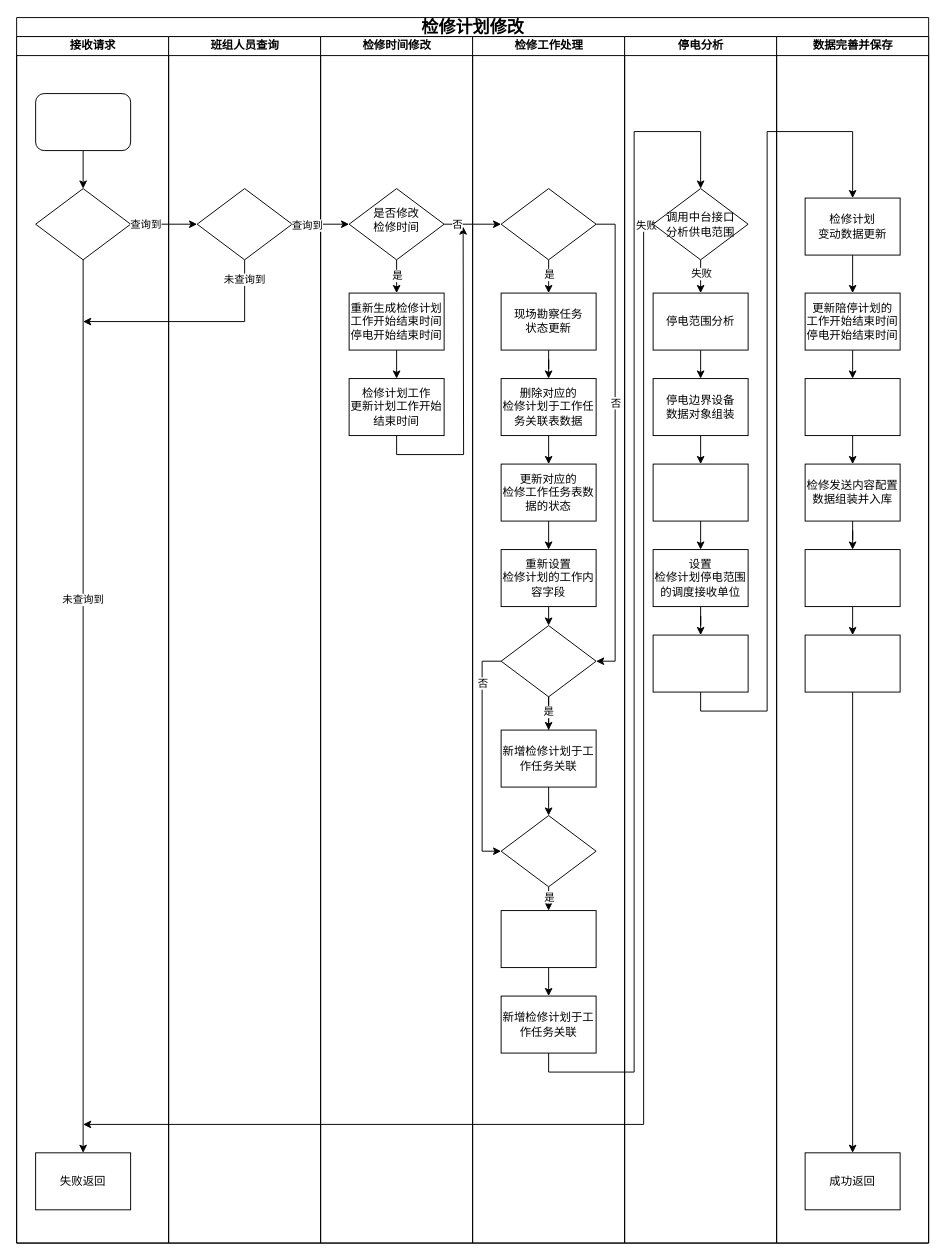
Some shapes in this 945 by 1260 pixel diagram are drawn without their labels. The shapes that lost their labels are listed below. From the top down, each one's centre as x and y in pixels, then its label:
point (83, 122): 开始
point (83, 224): 巡检计划查询
point (244, 224): 查询班组人员
point (548, 224): 是否存在 要删除的 检修工作
point (852, 407): 变更停电申请单
point (700, 492): 检修计划停电范围 数据对象组装
point (852, 578): 更新班组信息
point (548, 661): 是否存在 新增来字缺陷隐患 的检修任务
point (700, 663): 停电边界设备 检修计划停电范围 保存到数据库
point (852, 663): 更新检修扩展属性 数据
point (548, 851): 是否存在 新增 检修任务
point (548, 939): 新增 检修工作任务表数据
